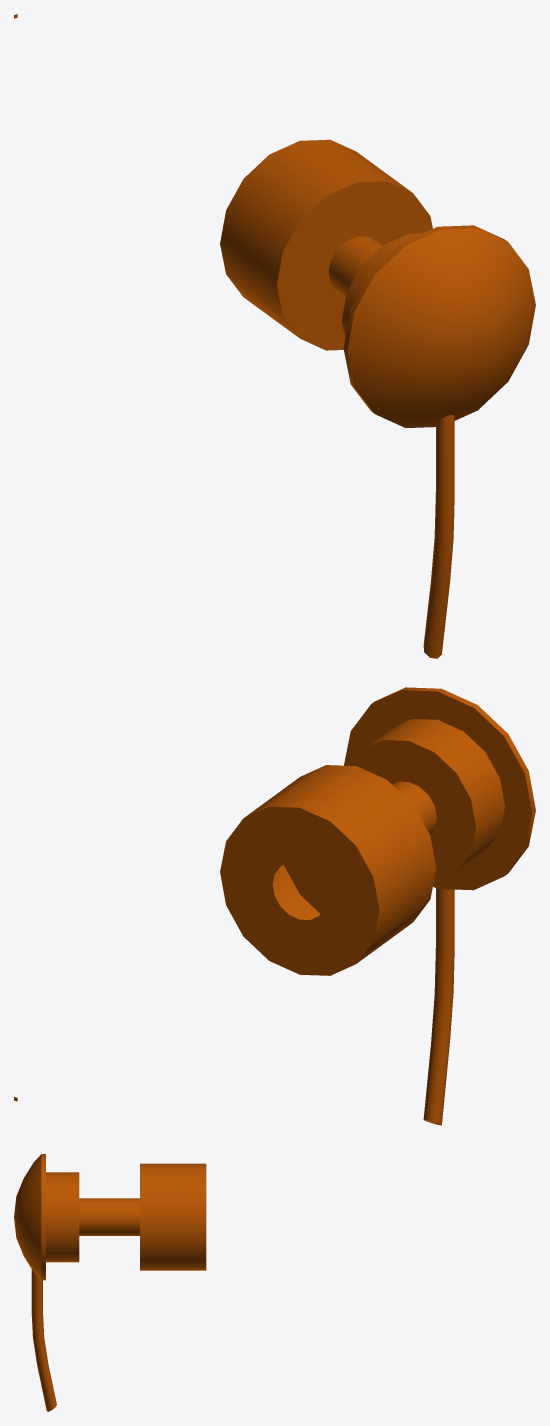
Rendered from MeshSoapBottle_8_0_GeomSubset_1.obj.
3 renders of one model, top to bottom at view 1: azimuth 30°, elevation 25°; view 2: azimuth 150°, elevation 25°; view 3: azimuth 270°, elevation 25°, orthographic. The views are drawn at different scales.
Parts seen in each view (by area): view 1: MeshSoapBottle_8_0_GeomSubset_1; view 2: MeshSoapBottle_8_0_GeomSubset_1; view 3: MeshSoapBottle_8_0_GeomSubset_1.
Part boxes in pixels (left/top/right/bottom): MeshSoapBottle_8_0_GeomSubset_1: left=14, top=14, right=535, bottom=658; MeshSoapBottle_8_0_GeomSubset_1: left=14, top=687, right=535, bottom=1125; MeshSoapBottle_8_0_GeomSubset_1: left=14, top=1154, right=206, bottom=1411.
Bounding box in the file's own units: 0.0536 × 0.1176 × 0.2215.
